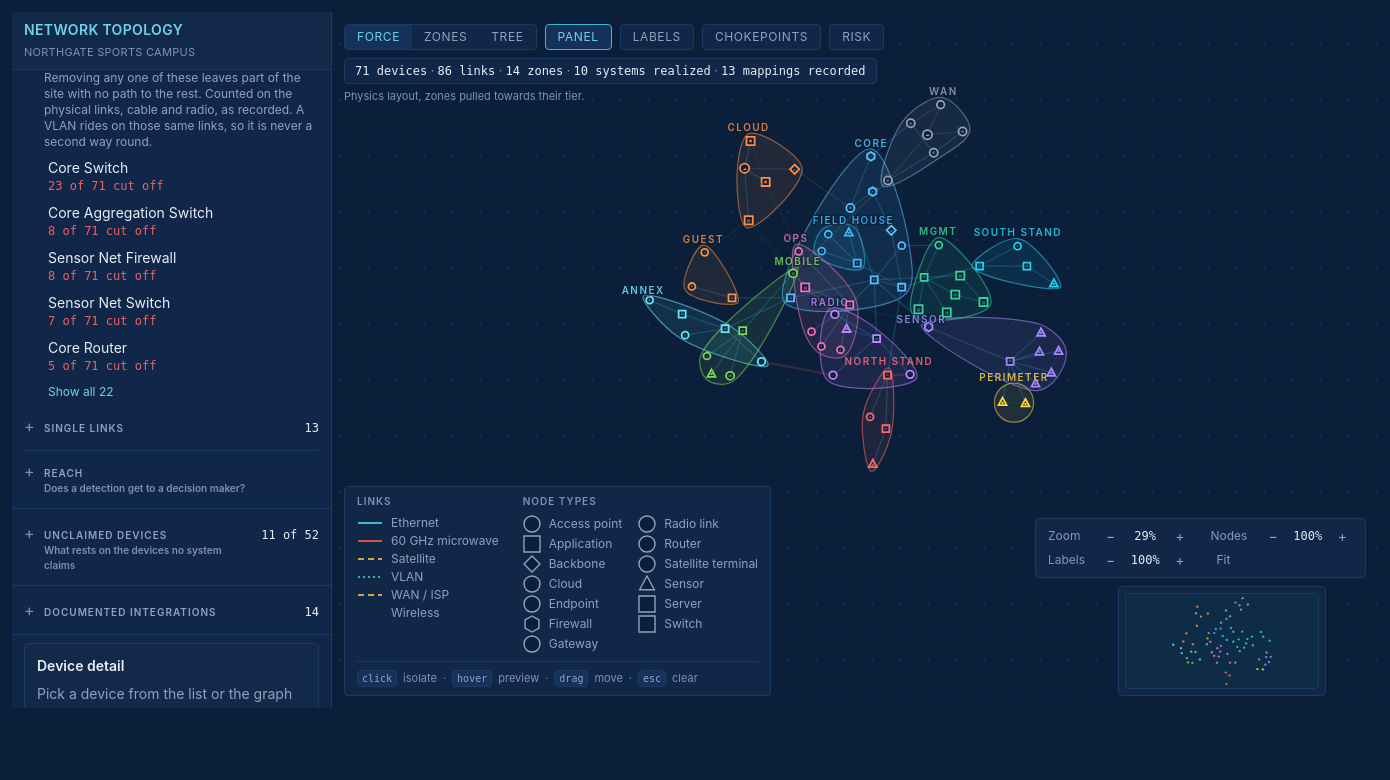
Test: Single points of failure › drills a chokepoint through to the devices it would isolate
The width and height of the screenshot is (1390, 780).
(page scrolled)
Click the button "Show all 22". click: (81, 392)
box: [44, 382, 118, 402]
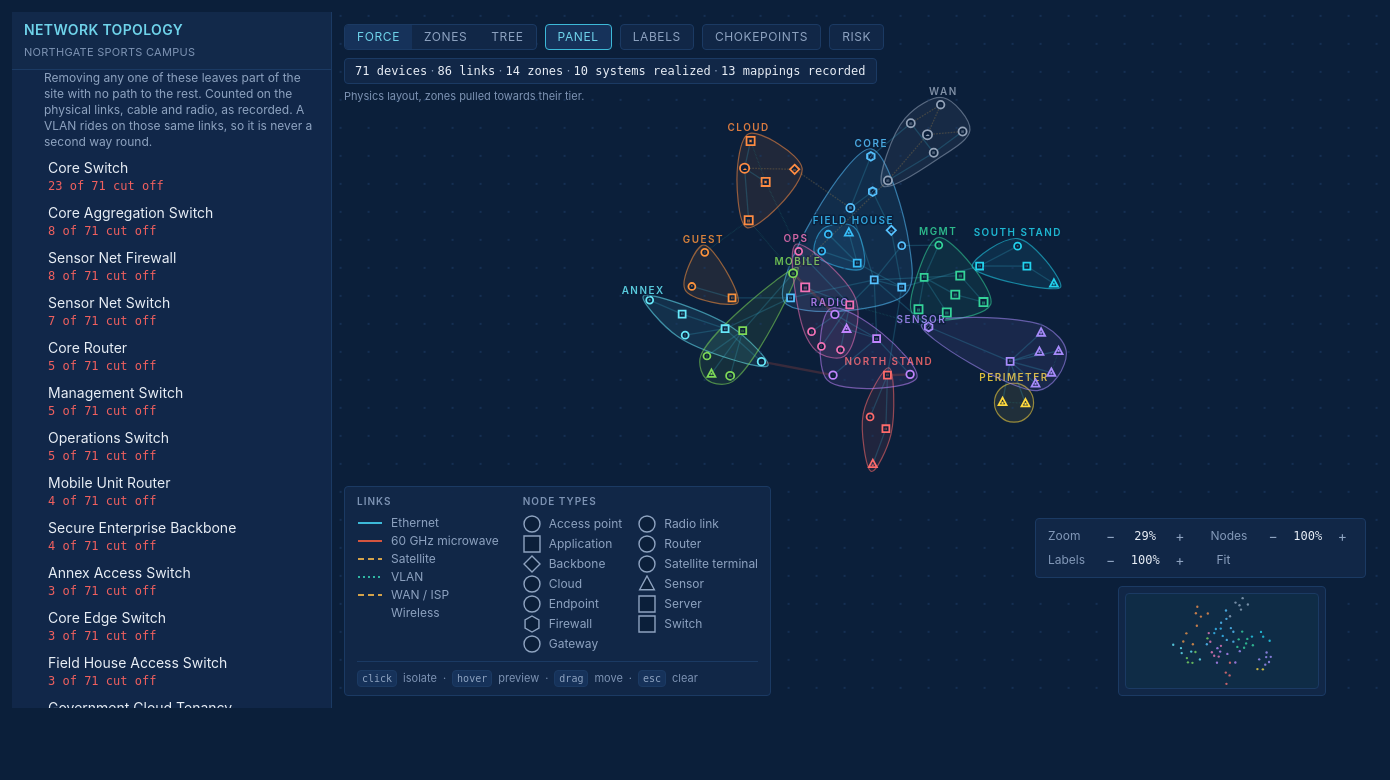
Click the button "Field House Access Switch 3 of 71 cut off". click: (182, 670)
box: [44, 648, 319, 692]
(page scrolled)
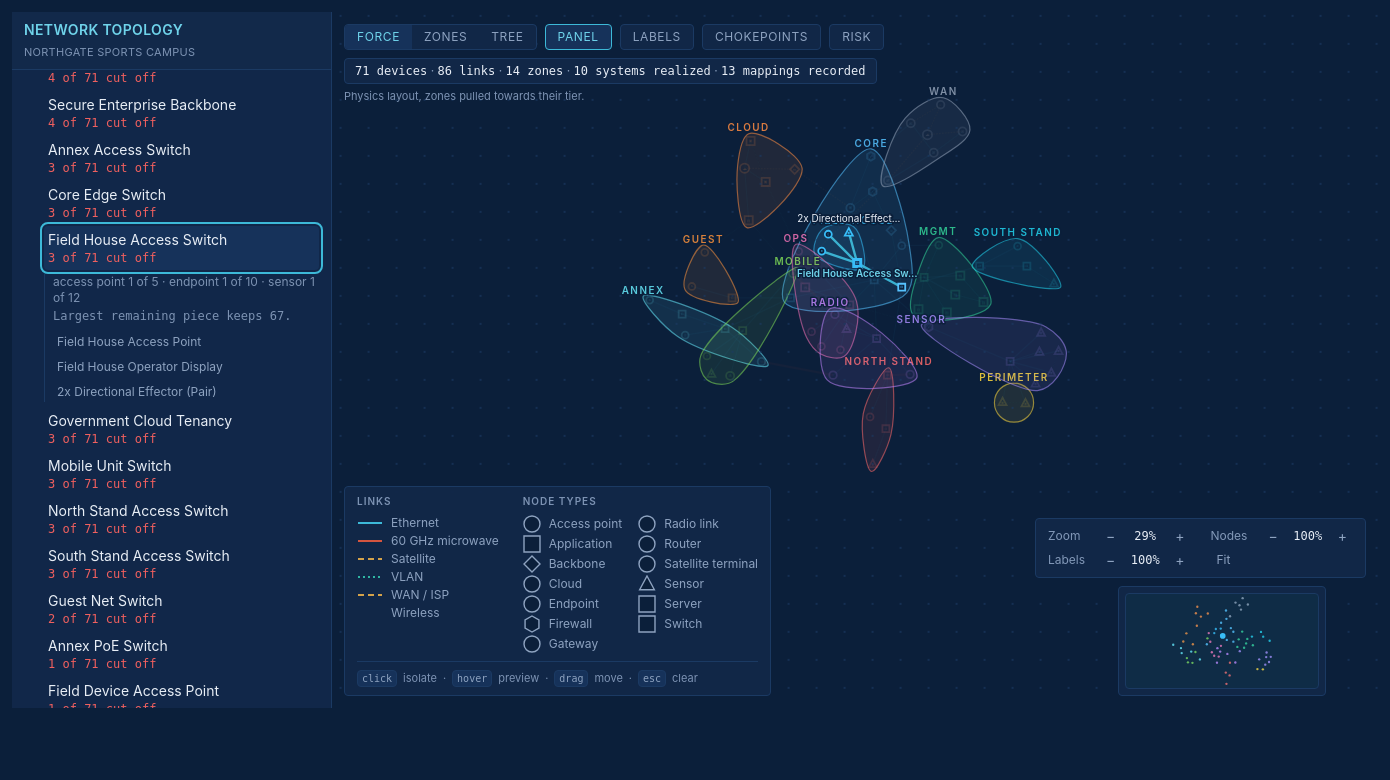
Result: the button "Field House Access Switch 3 of 71 cut off" is expanded at [44, 226, 319, 270]
Result: the button "Field House Access Point" is shown at [53, 332, 319, 352]
Result: the button "Field House Operator Display" is shown at [53, 356, 319, 376]
